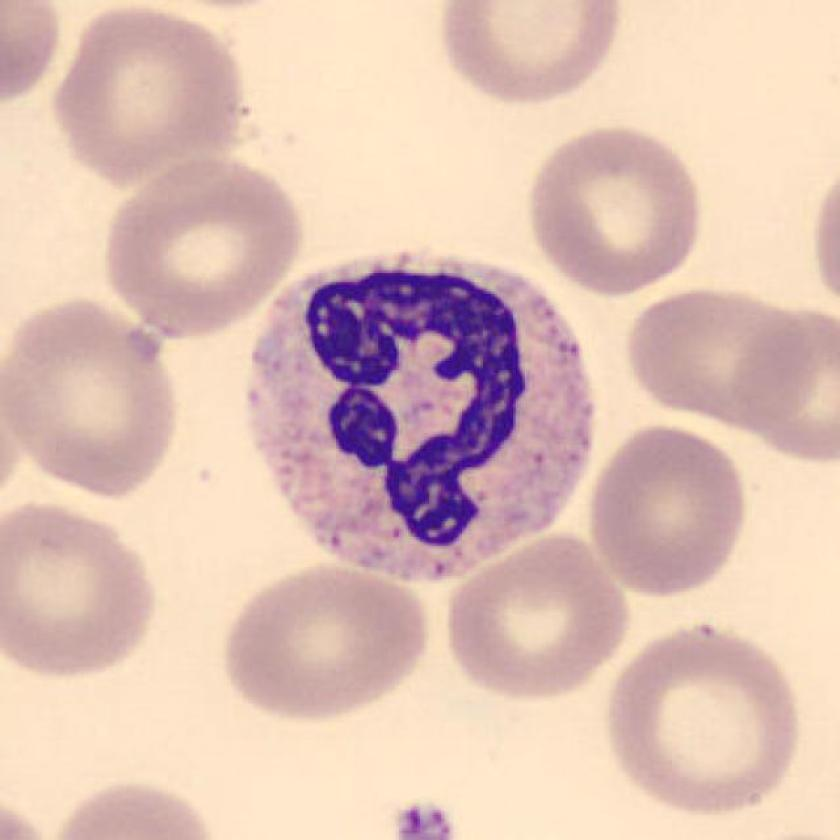neutrophil: (253, 260, 597, 579)
